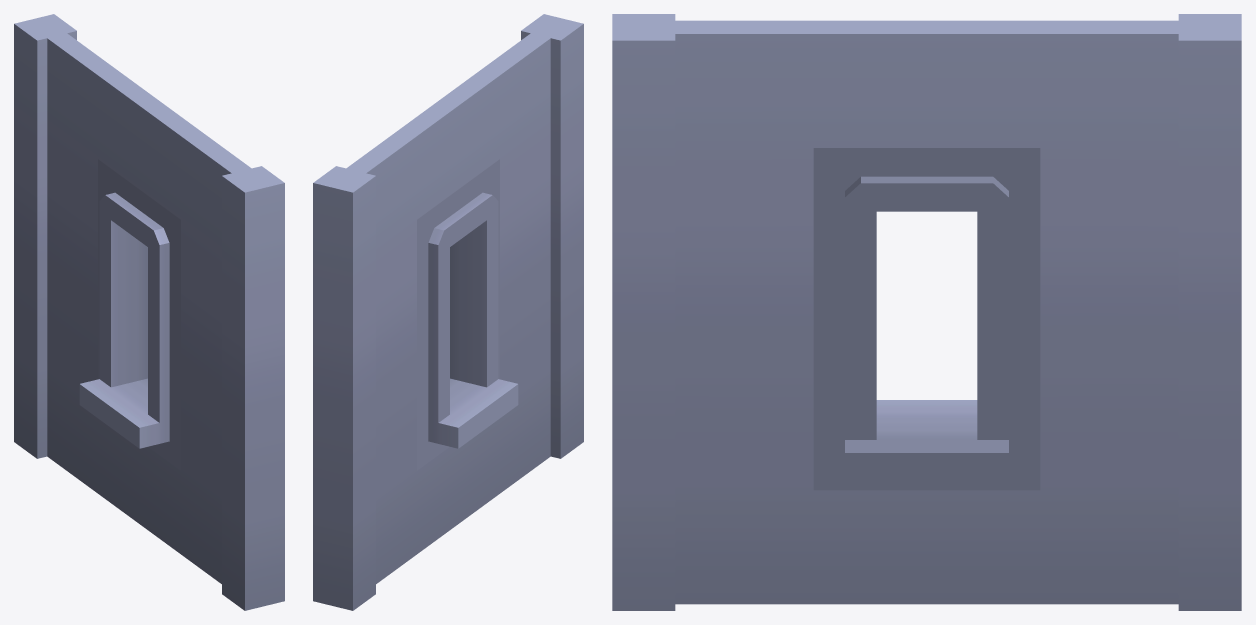
Rendered from ot-wall-wood-window-small.glb.
The picture shows the model from 3 angles, left to right: view 1: azimuth 30°, elevation 25°; view 2: azimuth 150°, elevation 25°; view 3: azimuth 270°, elevation 25°; orthographic projection. The views are drawn at different scales.
Parts seen in each view (by area): view 1: wall-wood-window-small; view 2: wall-wood-window-small; view 3: wall-wood-window-small.
Part boxes in pixels (left/top/right/bottom): wall-wood-window-small: left=14, top=14, right=284, bottom=610; wall-wood-window-small: left=313, top=14, right=583, bottom=610; wall-wood-window-small: left=612, top=14, right=1241, bottom=610.
Bounding box in the file's own units: 0.2 × 1 × 1.
1 material, 1 textured.
